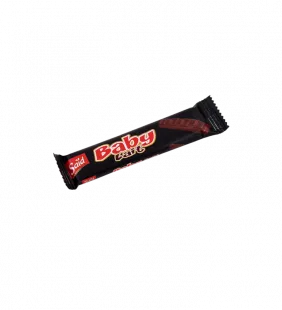BABY SAID: (44, 90, 237, 197)
